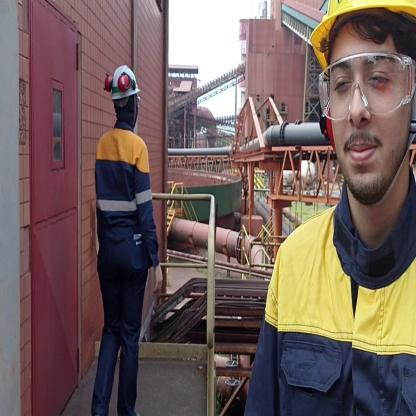Balaclava: (110, 92, 138, 132)
C_eletrica: (258, 212, 416, 416)
Capacete: (108, 60, 139, 99)
Operacional: (96, 128, 152, 232)
